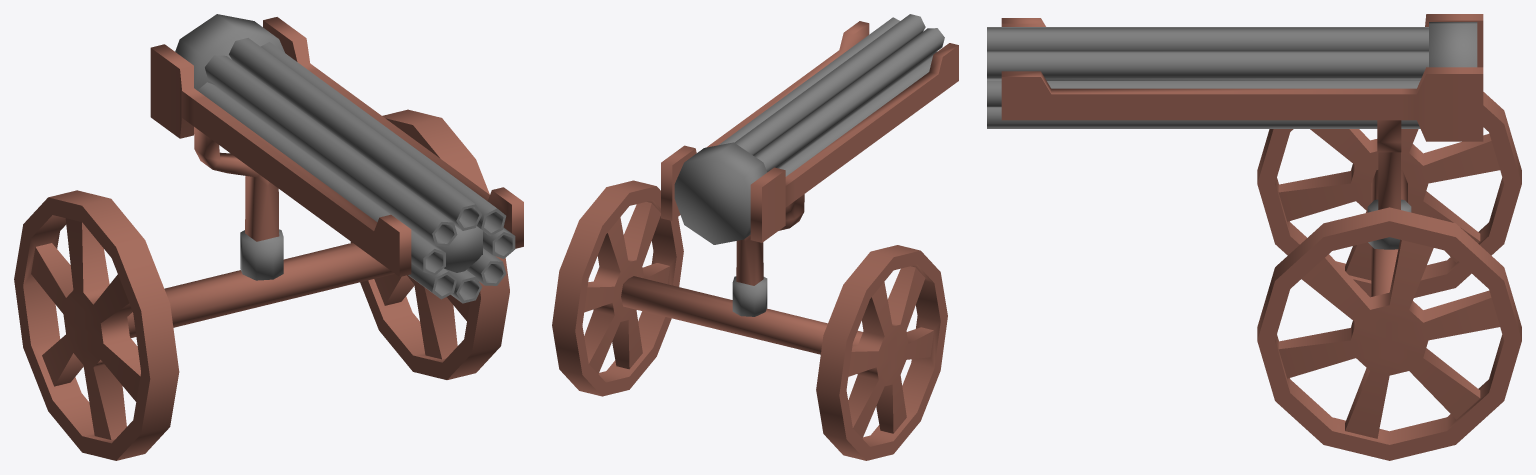
File: Metralhadora_1.fbx
The picture shows the model from 3 angles, left to right: view 1: azimuth 30°, elevation 25°; view 2: azimuth 150°, elevation 25°; view 3: azimuth 270°, elevation 25°; orthographic projection. The views are drawn at different scales.
Parts seen in each view (by area): view 1: Metralhadora_1; view 2: Metralhadora_1; view 3: Metralhadora_1.
Part boxes in pixels (x1,y1,x2,y2): Metralhadora_1: (14, 14, 523, 460); Metralhadora_1: (552, 14, 958, 460); Metralhadora_1: (987, 14, 1521, 460).
Size of the model in its own units: 1.78 by 1.34 by 1.29.
